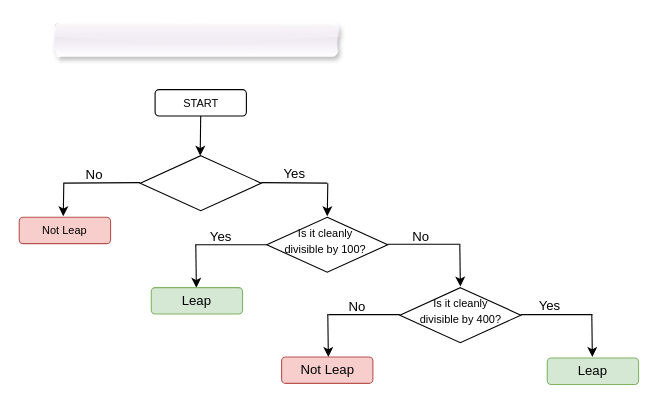
Some shapes in this 658 by 404 pixel diagram are drawn without their labels. Here are the shapes that lost their labels. From the top down, the centre of each, then its label:
At (197,41): "FLOWCHAT TO DETERMINE LEAP YEARS".
At (200,183): "Is it cleanly divisible by 4?".
